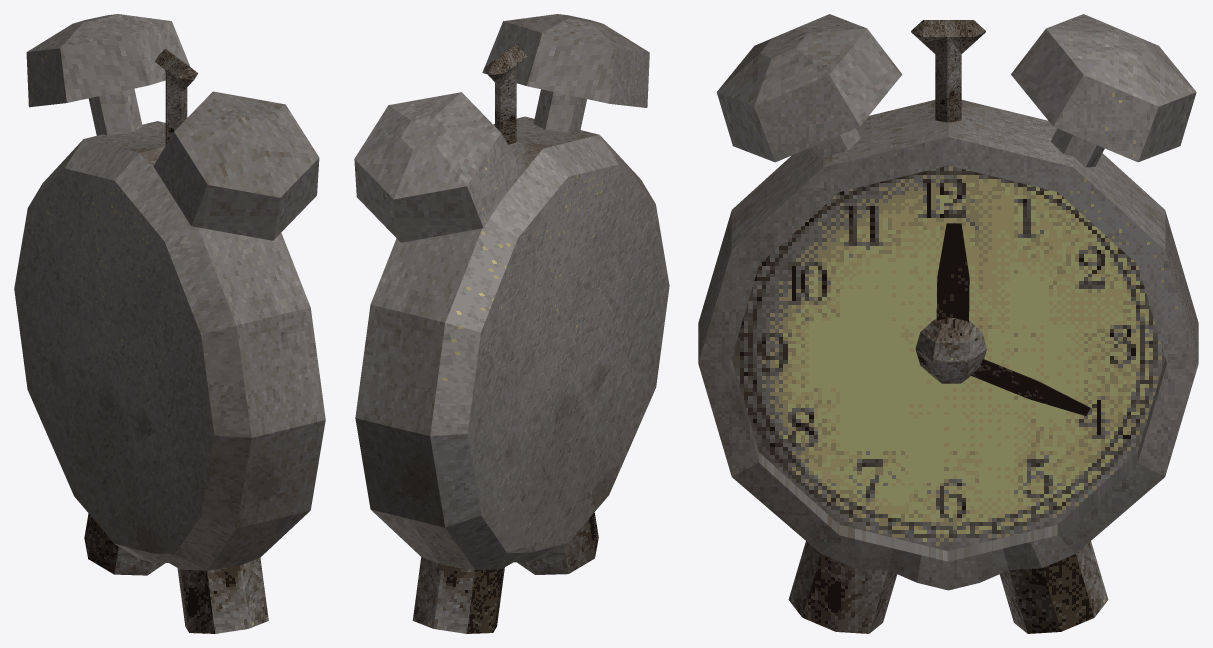
The model's file is clock.glb.
3 views of the same model, side by side, from view 1: azimuth 30°, elevation 25°; view 2: azimuth 150°, elevation 25°; view 3: azimuth 270°, elevation 25° (orthographic). The views are drawn at different scales.
Parts seen in each view (by area): view 1: Cylinder, Sphere.002; view 2: Cylinder, Sphere.002; view 3: Cylinder, Sphere.002, Cube, Cube.001.
Boxes of the visible parts, bbox=[...] form: Cylinder: bbox=[14, 14, 325, 633]; Sphere.002: bbox=[155, 49, 197, 144]; Cylinder: bbox=[354, 14, 669, 633]; Sphere.002: bbox=[484, 44, 527, 144]; Cylinder: bbox=[698, 14, 1198, 633]; Sphere.002: bbox=[911, 20, 985, 122]; Cube: bbox=[936, 223, 969, 322]; Cube.001: bbox=[971, 359, 1090, 415].
Bounding box in the file's own units: 0.0784 × 0.32 × 0.241.
Materials: 2 (2 with a texture image).
